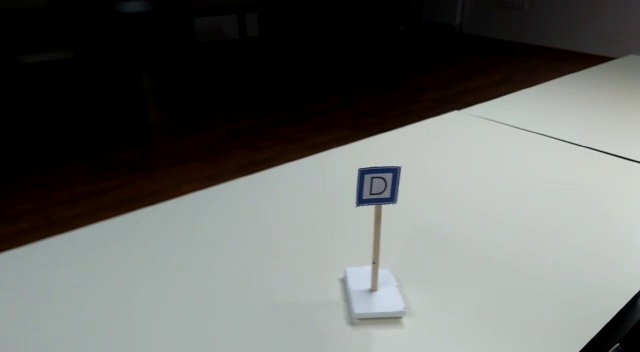durak: (356, 166, 400, 203)
